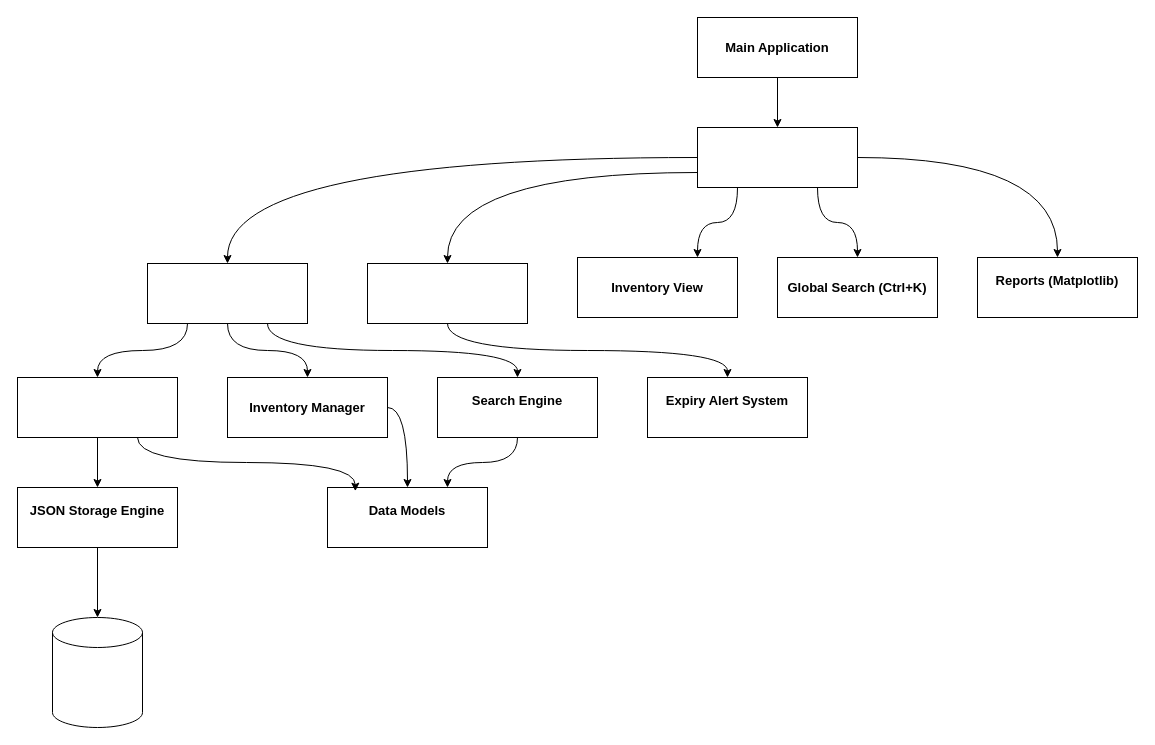
This 1155x745 diagram has some shape labels left out. The shapes that lost their labels are listed below. From the top down, each one's centre as x and y in pixels, then its label:
pixel 777 157: UI Layer (PyQt6)
pixel 227 293: Bussiness Logic
pixel 447 293: Dashboard View
pixel 97 407: Data Access Layer
pixel 97 672: JSON Files
